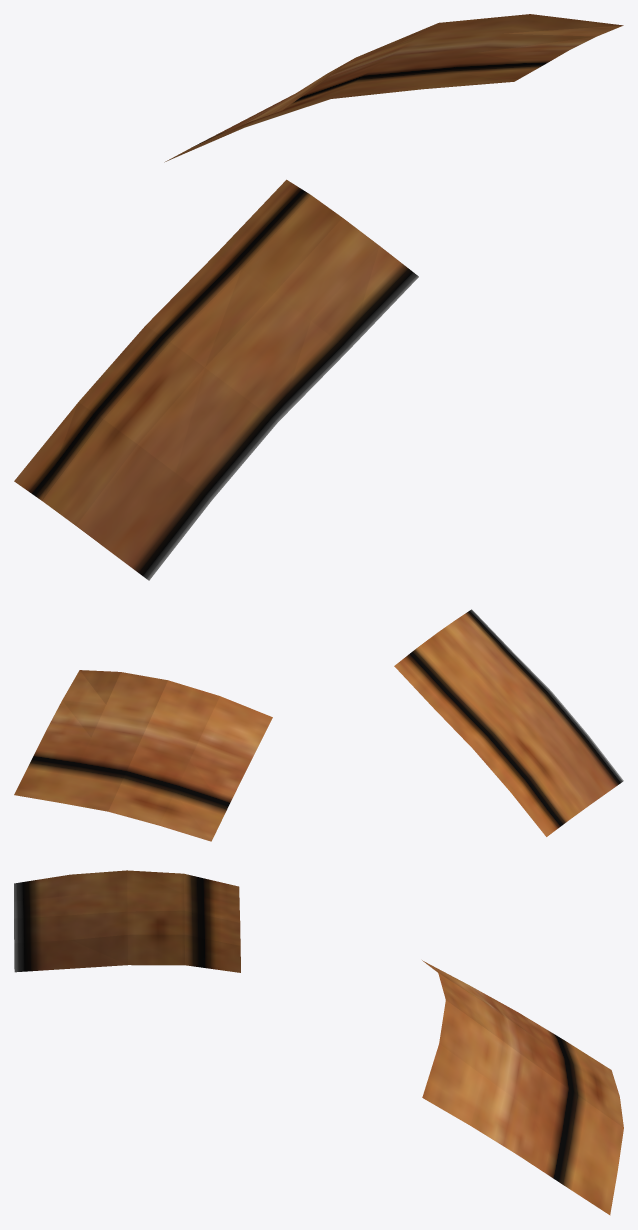
Rendered from house_01_carpets_02.dae.
The picture shows the model from 3 angles, top to bottom: view 1: azimuth 30°, elevation 25°; view 2: azimuth 150°, elevation 25°; view 3: azimuth 270°, elevation 25°; orthographic projection. The views are drawn at different scales.
Visible parts, largest first — view 1: scyth_house_01_carpets_01; view 2: scyth_house_01_carpets_01; view 3: scyth_house_01_carpets_01.
Part boxes in pixels (<box>): scyth_house_01_carpets_01: <box>14,14,623,580</box>; scyth_house_01_carpets_01: <box>14,609,623,841</box>; scyth_house_01_carpets_01: <box>14,870,623,1215</box>.
Size of the model in its own units: 7.17 by 6.25 by 2.35.
